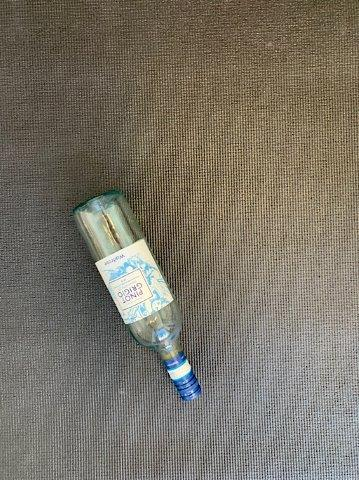botolkaca: (73, 190, 202, 400)
